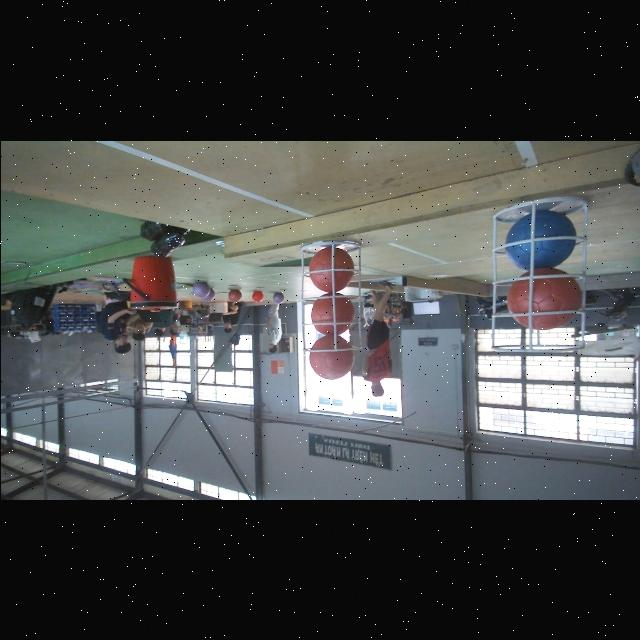B: (507, 208, 575, 272)
R: (506, 266, 580, 330), (308, 246, 354, 292), (309, 334, 353, 380), (311, 292, 353, 336)
